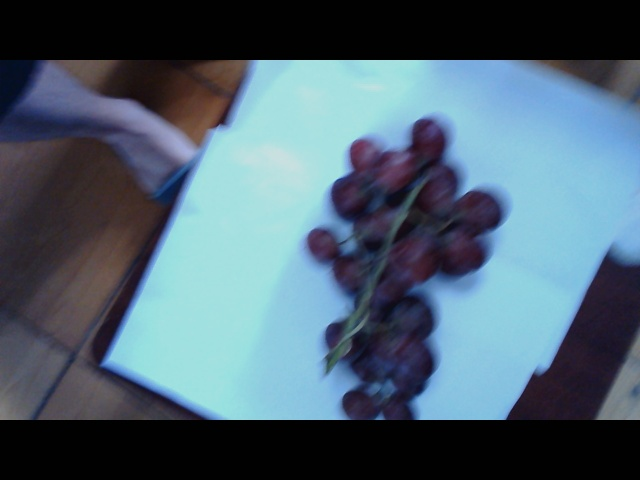grape: (314, 138, 504, 412)
